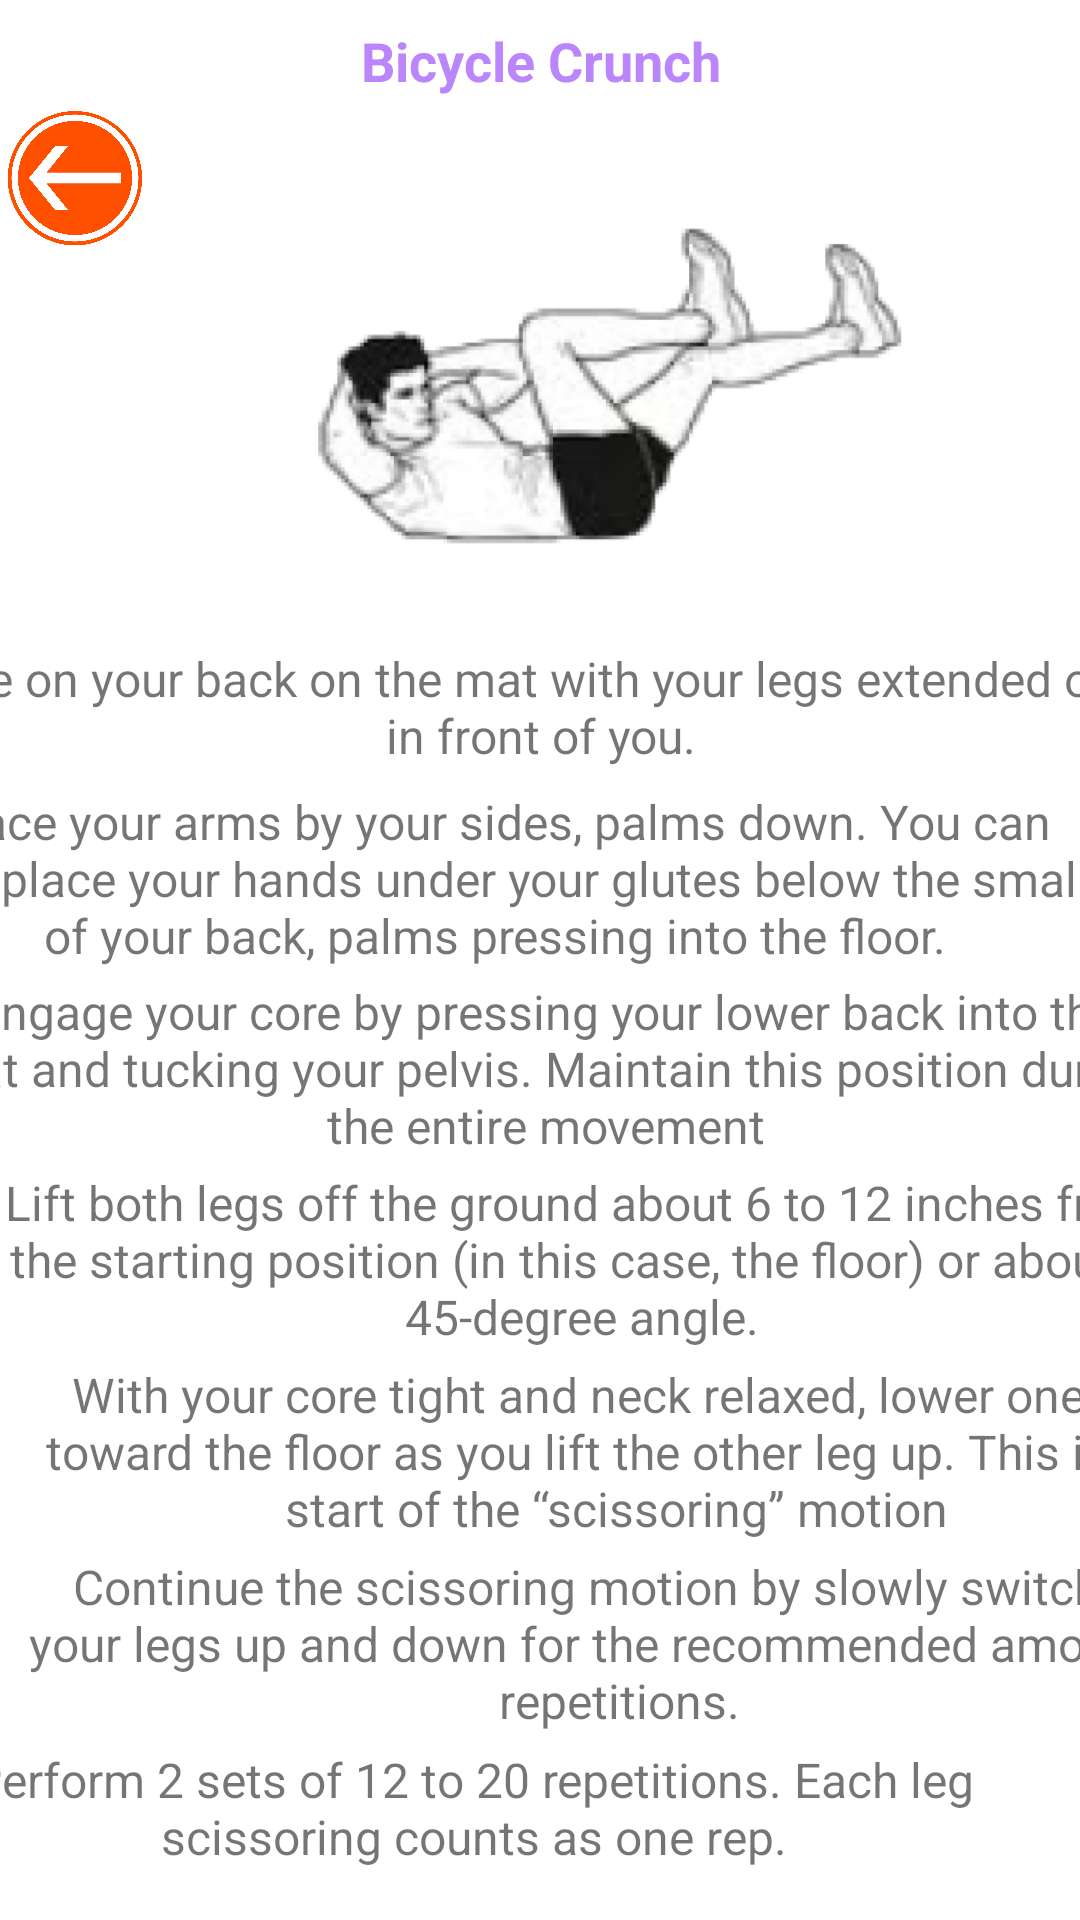

Named icons in this screenshot (1080*1920) and their bounding boxes, [x1,y1,x2,y2]:
this is the back button: [8,111,142,245]
